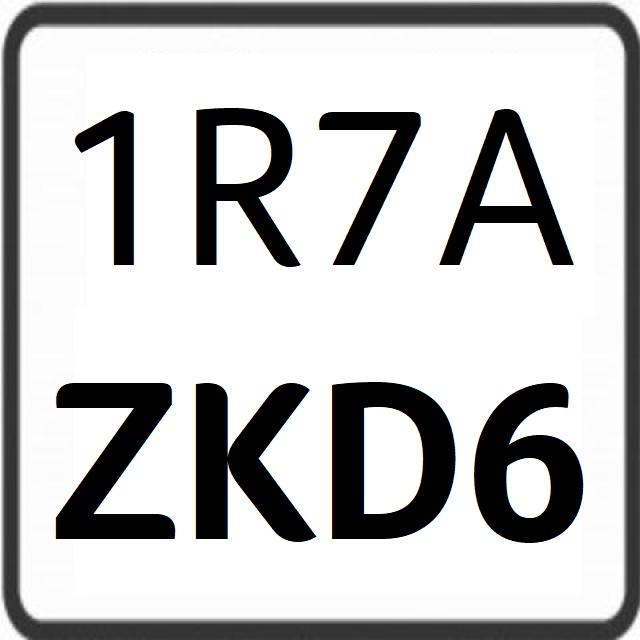A: (430, 68, 578, 298)
D: (324, 370, 459, 566)
K: (192, 354, 324, 552)
R: (190, 91, 311, 290)
Z: (52, 358, 181, 554)
